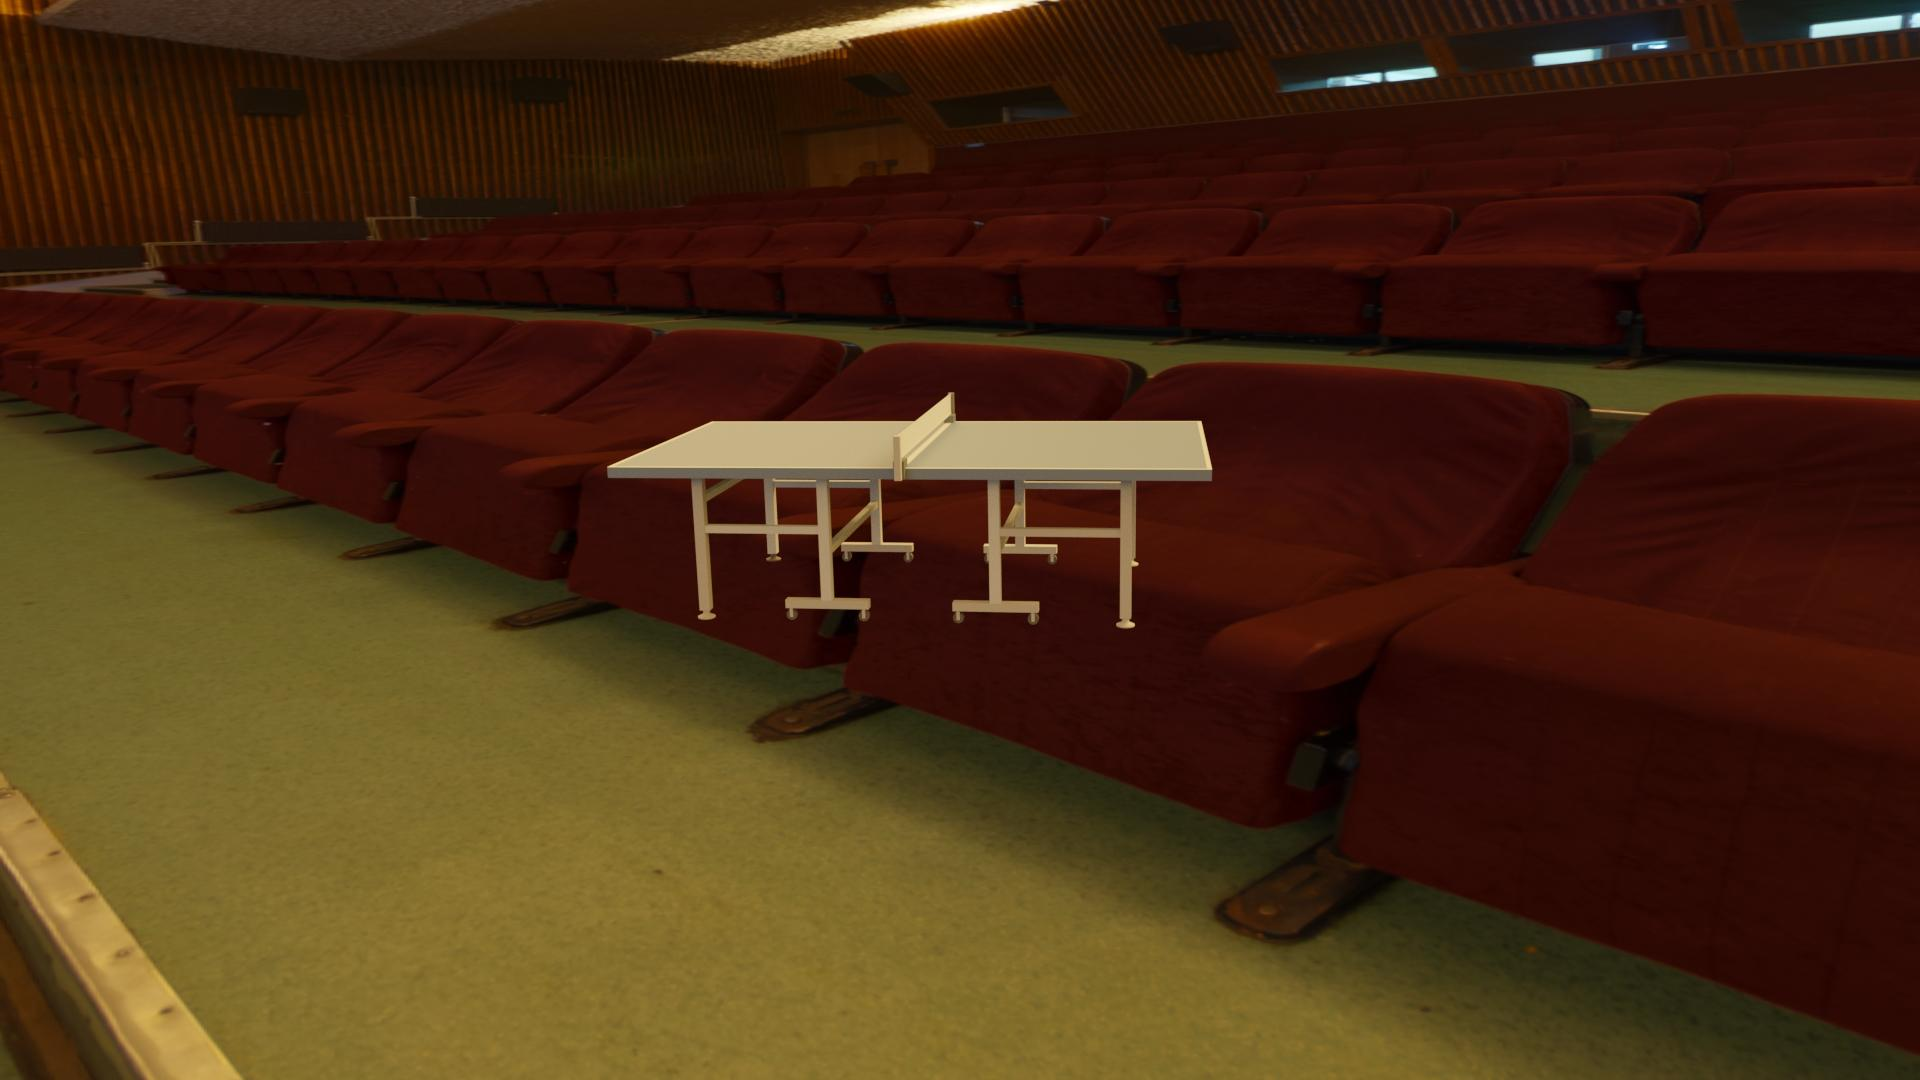table: (613, 422, 1207, 468)
